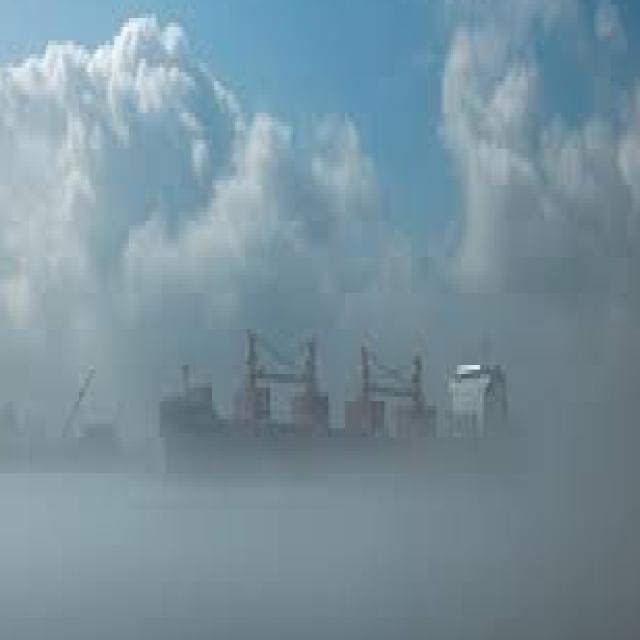cargoship: (156, 327, 527, 495)
